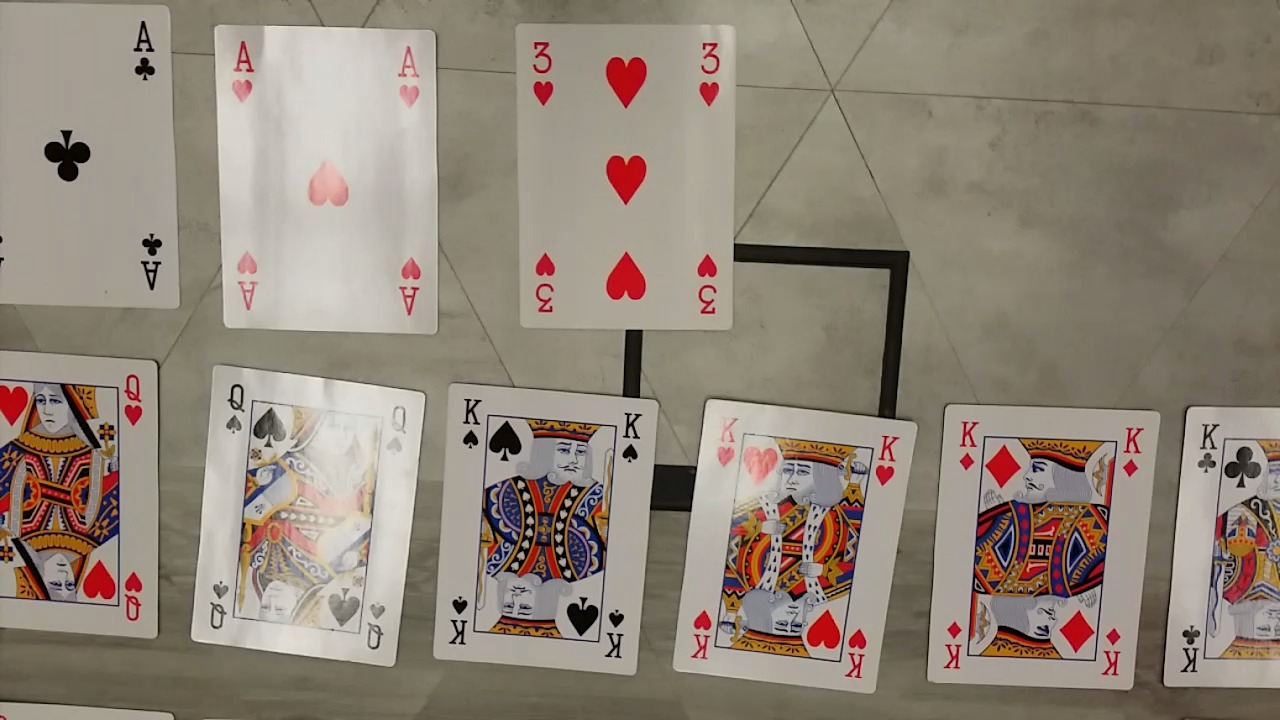1_club: (0, 0, 182, 307)
1_heart: (205, 24, 443, 339)
3_heart: (517, 35, 745, 333)
king_club: (1154, 410, 1280, 688)
king_diamond: (924, 403, 1164, 691)
king_heart: (673, 397, 918, 691)
king_spade: (430, 382, 648, 674)
queen_heart: (0, 346, 160, 638)
queen_spade: (189, 360, 426, 670)
